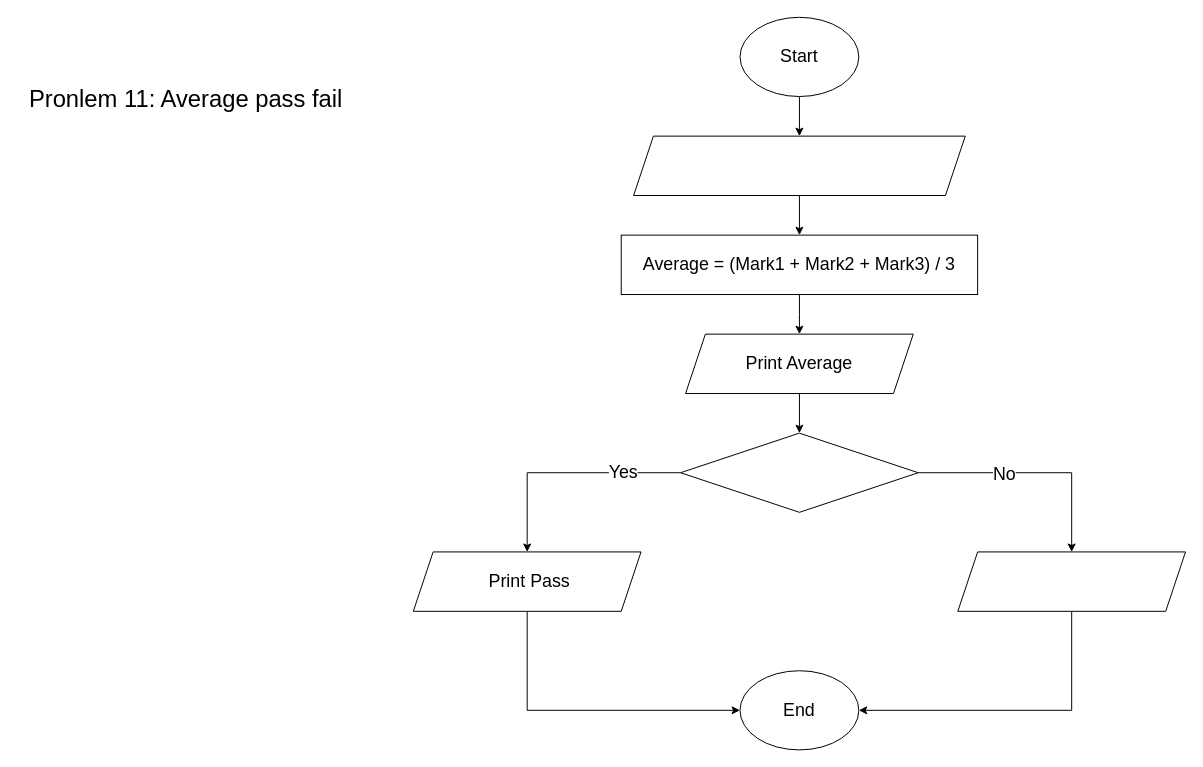
The diagram is 1203 pixels wide and 767 high, and some of its shapes have lost their labels. The centre of each missing label's shape, as x and y in pixels:
"Average >= 50" goes at point 799,472.
"Print Fail" goes at point 1071,581.
"Read Mark1, Mark2, Mark3" goes at point 799,165.
